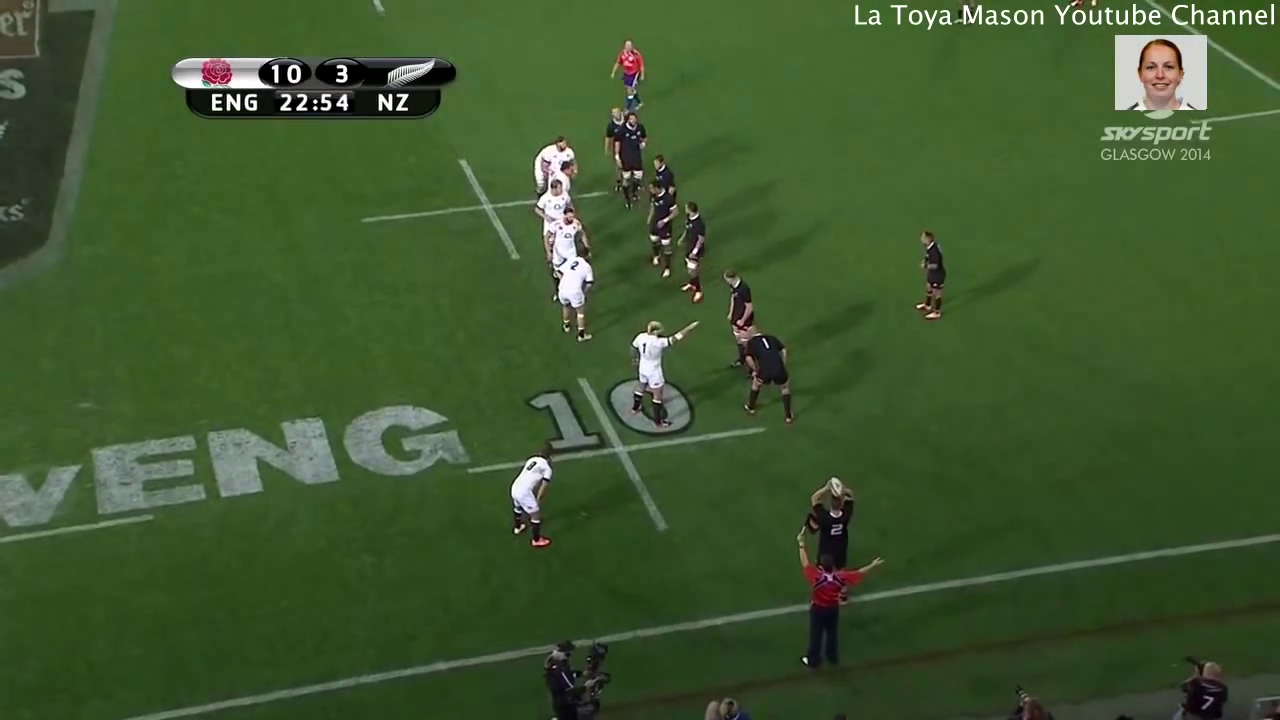10_metre: (461, 369, 776, 541), (356, 150, 619, 264)
player: (791, 510, 886, 684), (622, 312, 708, 432), (735, 319, 807, 432), (803, 468, 861, 582), (503, 444, 557, 552), (551, 245, 605, 347), (903, 227, 953, 328), (673, 194, 716, 308), (717, 263, 760, 372), (538, 204, 594, 284), (641, 175, 682, 284), (604, 25, 649, 120), (529, 128, 581, 210), (613, 108, 650, 213), (532, 174, 575, 237), (645, 150, 686, 198), (598, 102, 629, 161), (550, 163, 576, 188)
